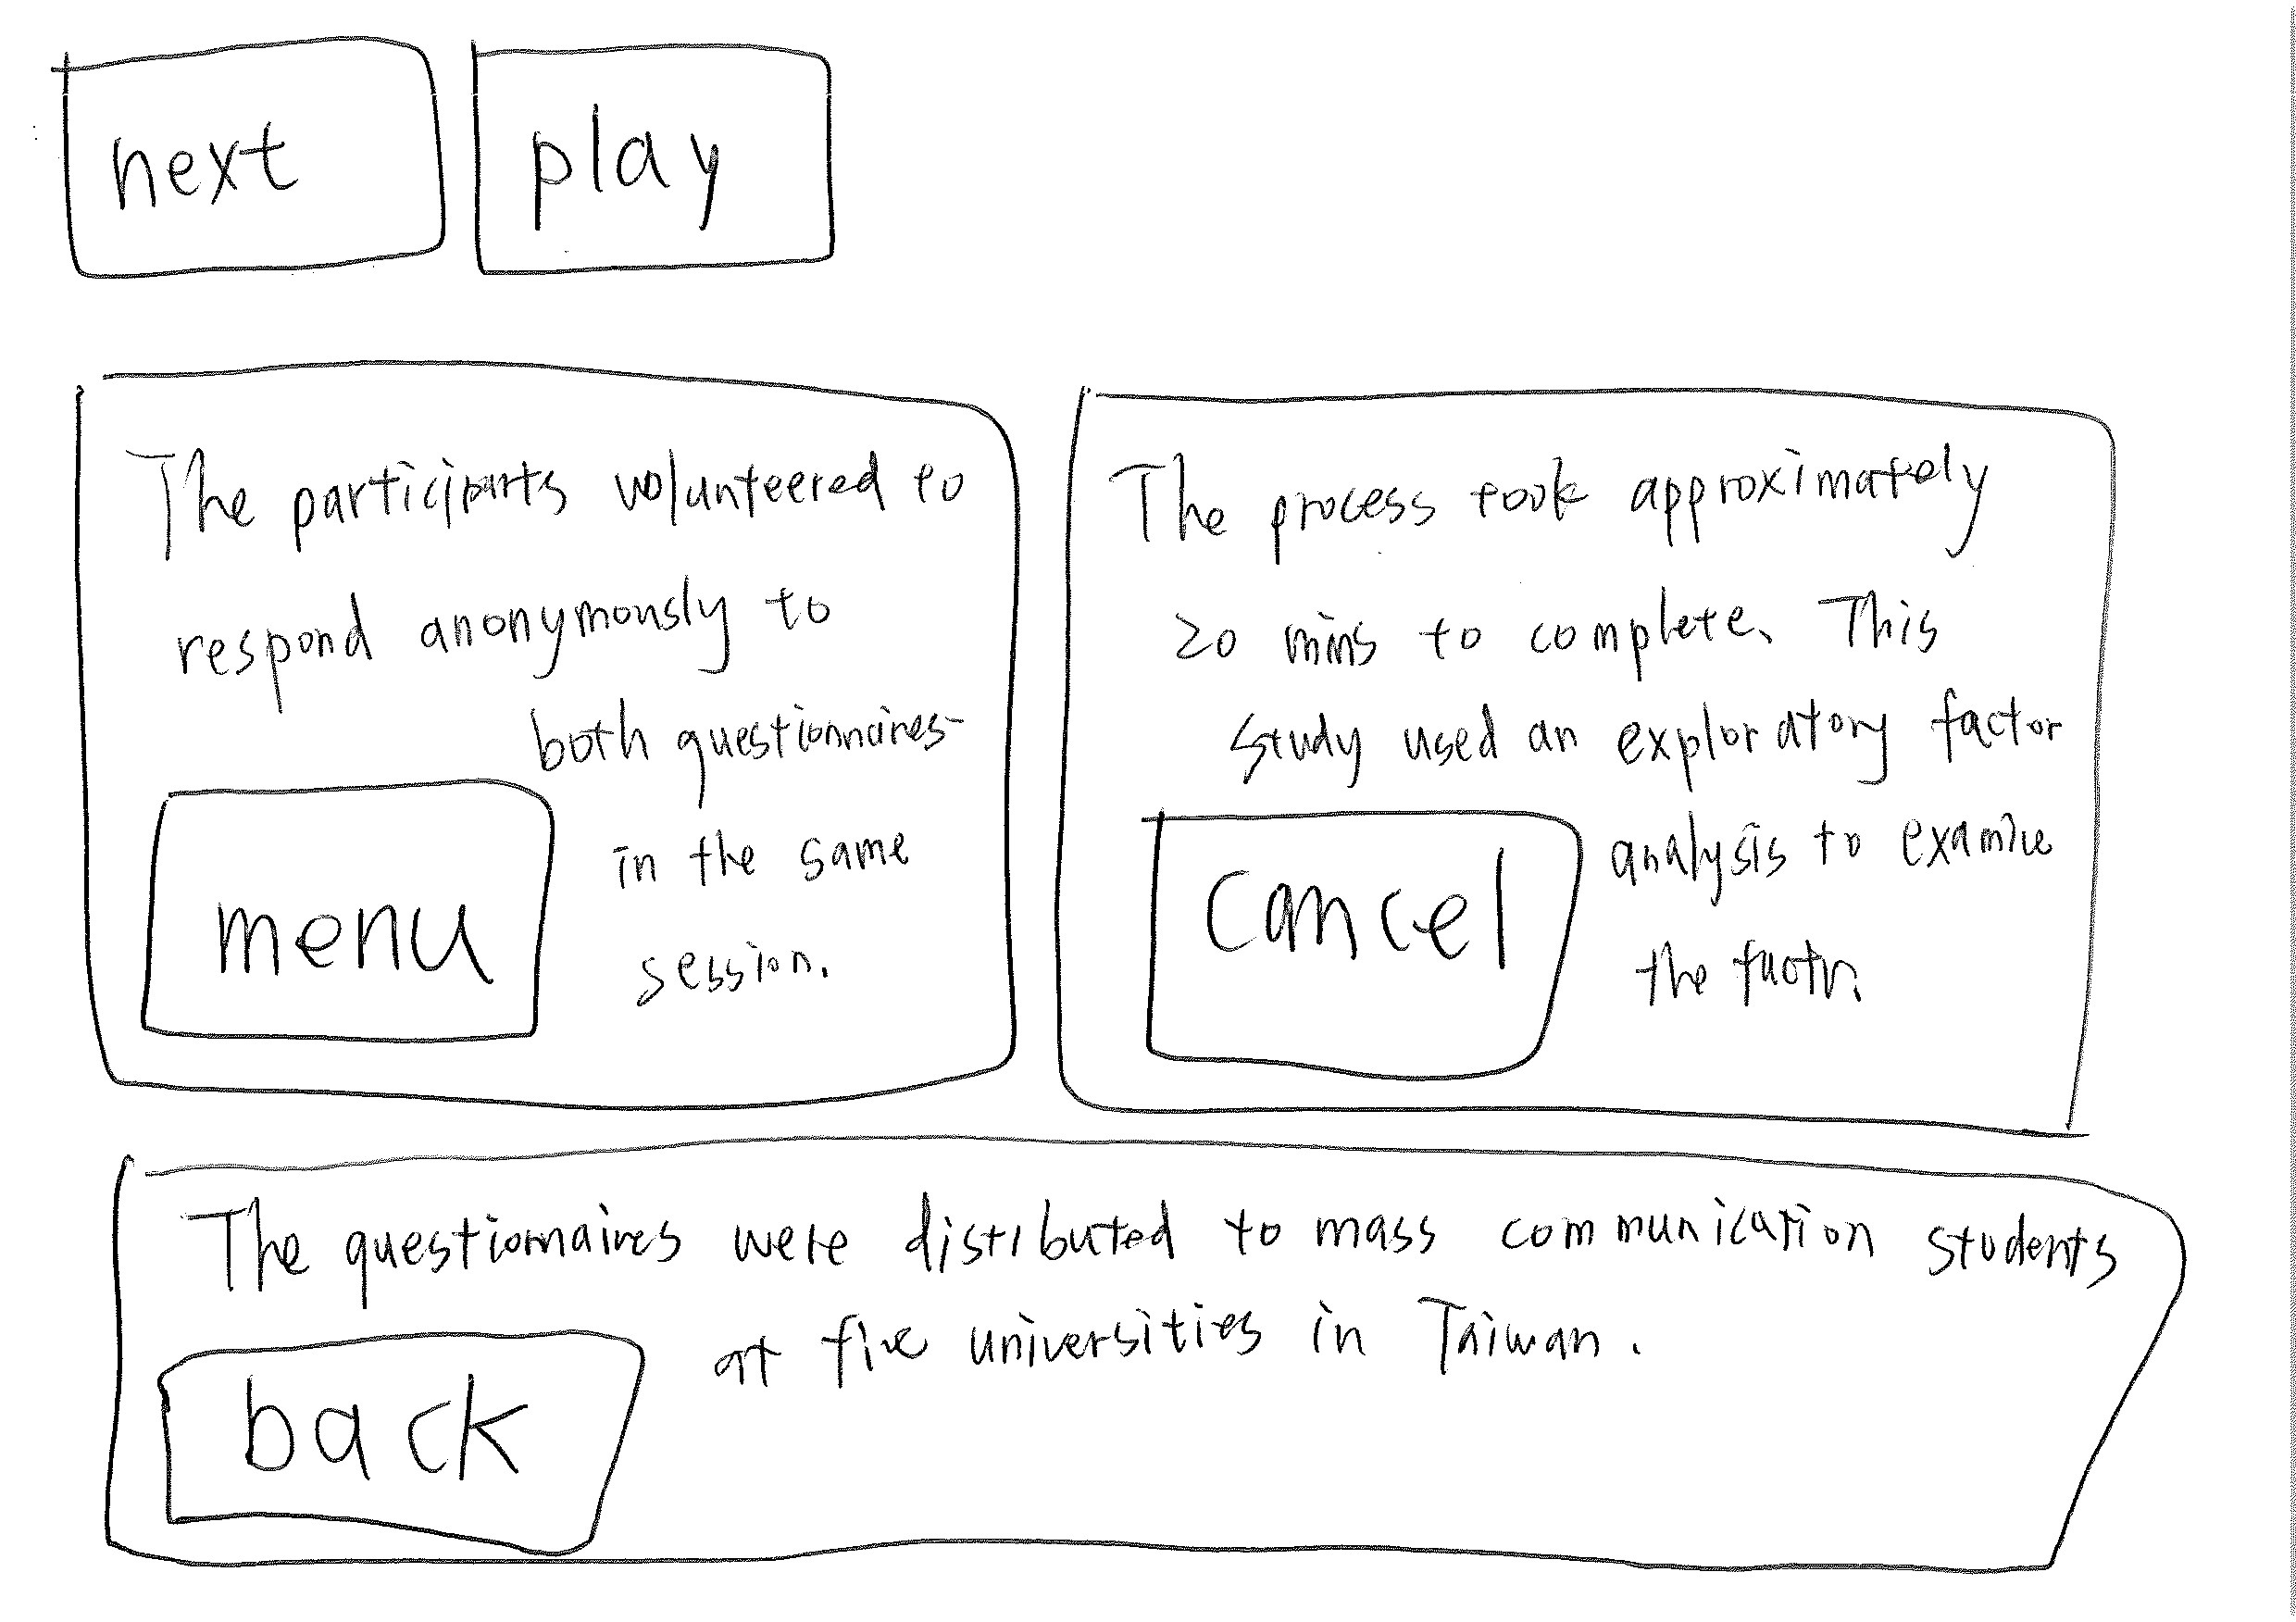back: (135, 1313, 671, 1555)
cancel: (1094, 799, 1604, 1088)
double: (1029, 328, 2166, 1159), (58, 330, 1044, 1132)
menu: (114, 760, 563, 1071)
next: (37, 19, 469, 305)
play: (449, 21, 881, 319)
row: (4, 334, 2296, 1164), (4, 1113, 2296, 1601), (4, 7, 2296, 325)
single: (44, 1118, 2254, 1622)
small-title: (165, 1180, 2113, 1308), (126, 404, 974, 614), (1090, 420, 2013, 586)
text: (750, 1262, 1841, 1468), (1606, 599, 2047, 1041), (1174, 572, 2010, 795), (563, 606, 971, 1011), (156, 597, 918, 720)
